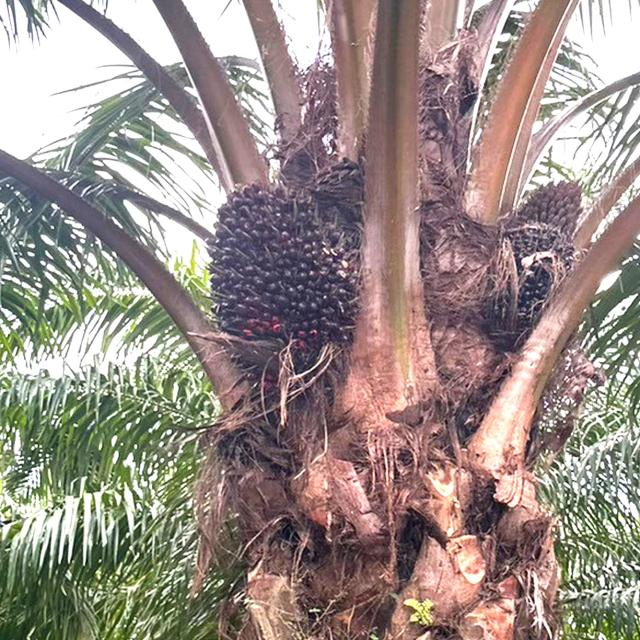ripe: (202, 174, 367, 356)
